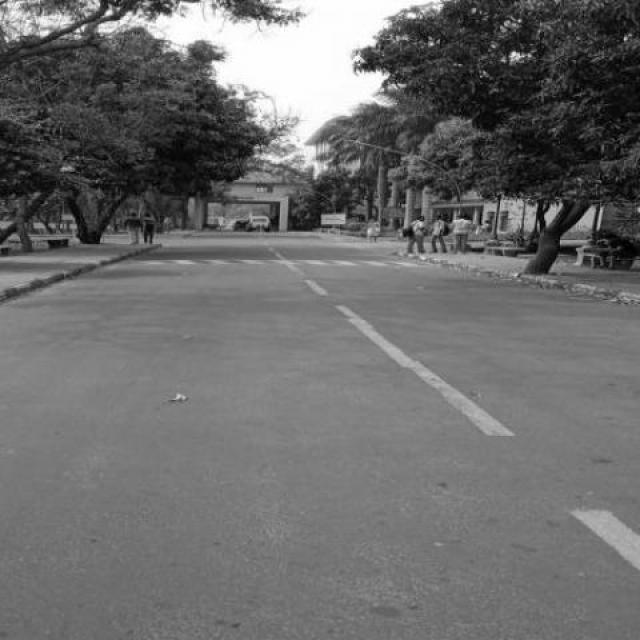Speed Bump: (114, 258, 433, 270)
